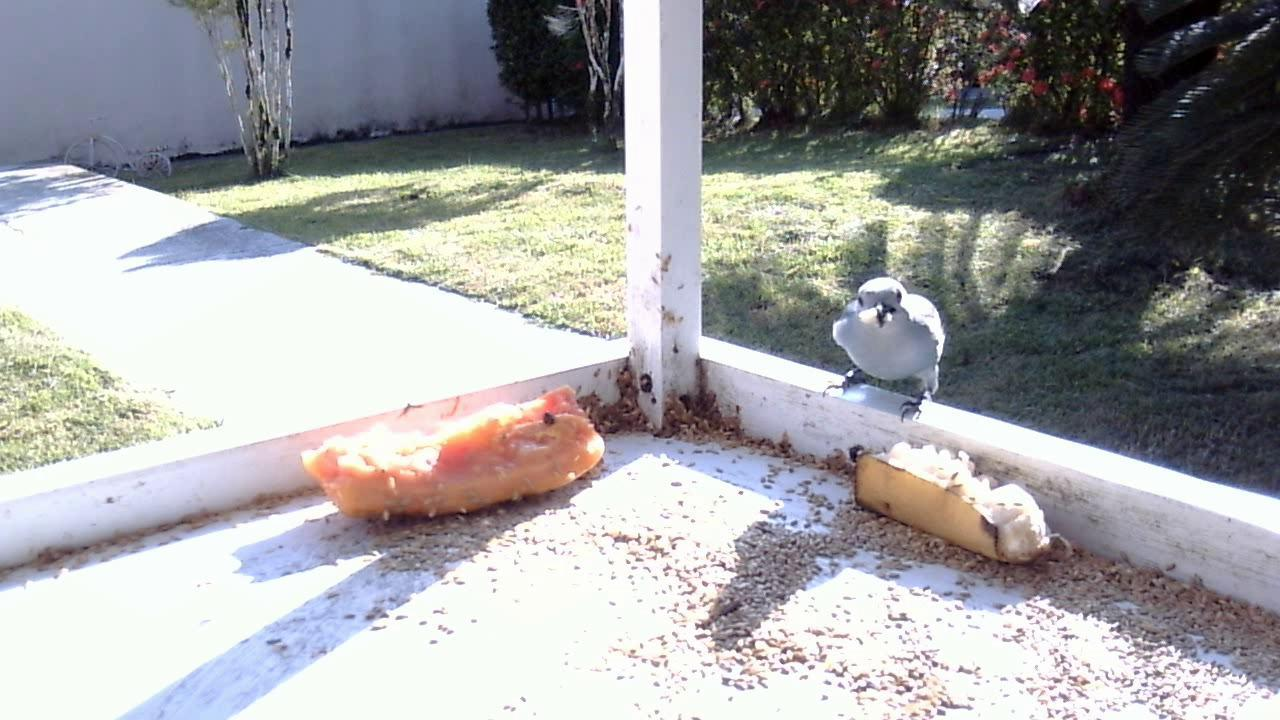sanhaco_da_amazonia: (822, 275, 948, 420)
